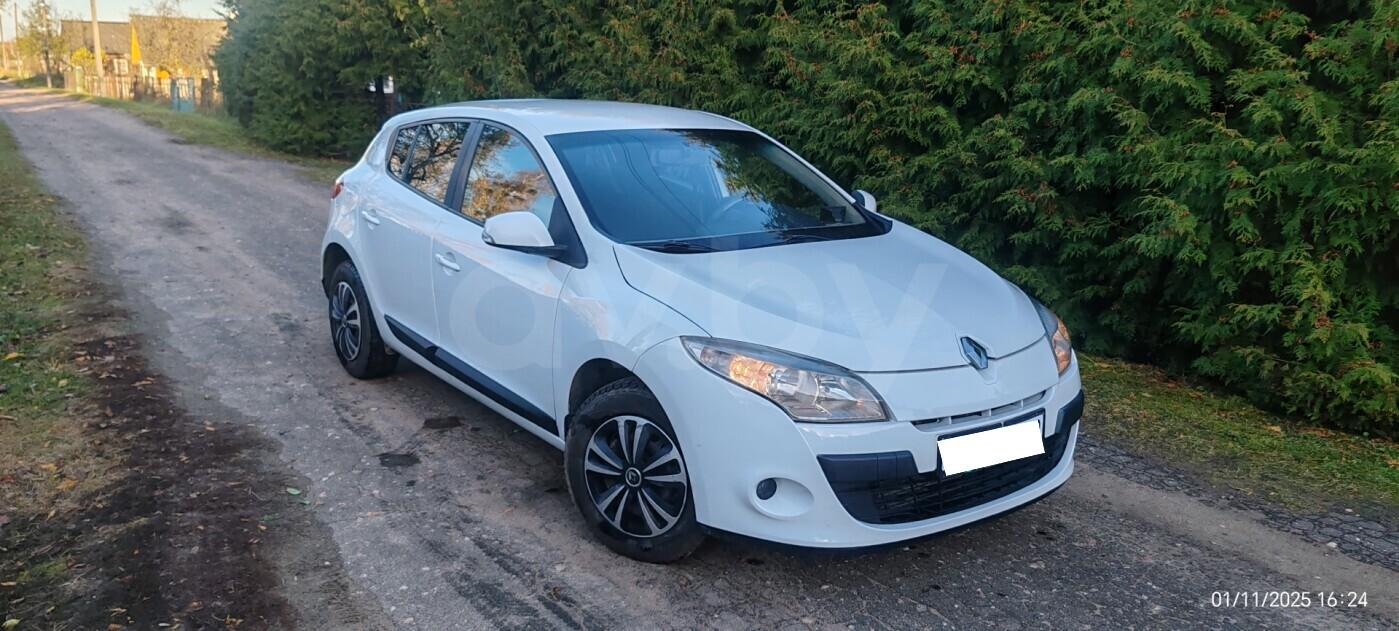Megane_2008-2014: (316, 92, 1088, 547)
